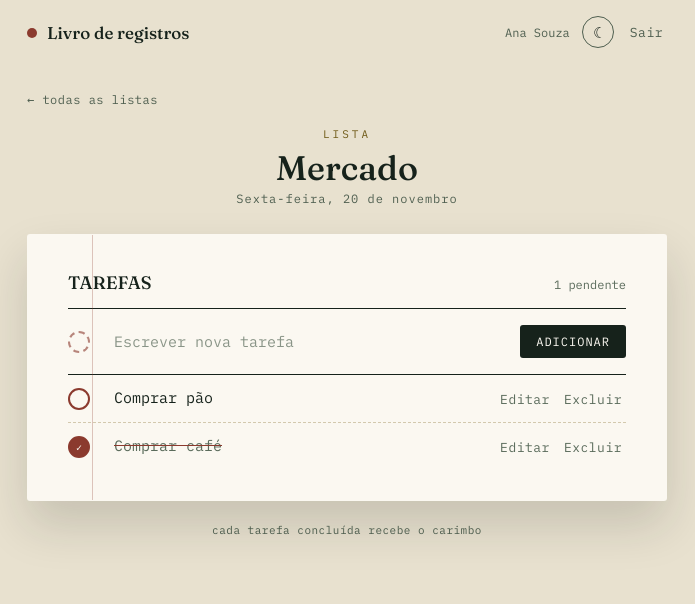
TasksPage › mostra o erro quando não consegue concluir a tarefa
Click the checkbox named "Comprar pão". click: x=79, y=399
box: [68,388,90,410]
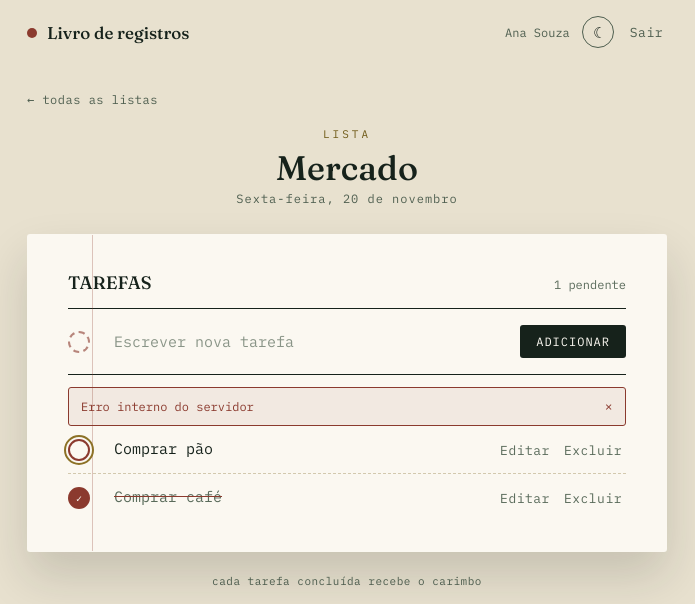
Expected: the checkbox named "Comprar pão" is not checked, [68,439,90,461]
Expected: the message shows "Erro interno do servidor", [81,399,254,414]
